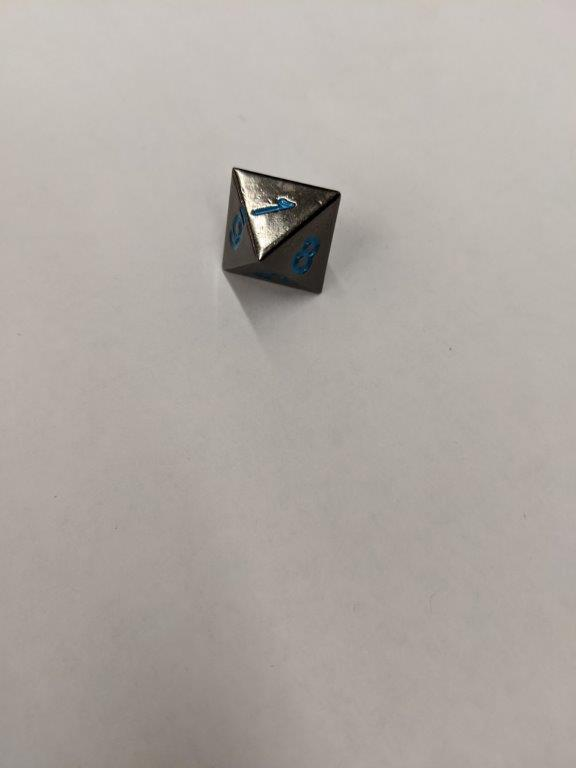d8-1: (222, 164, 340, 298)
